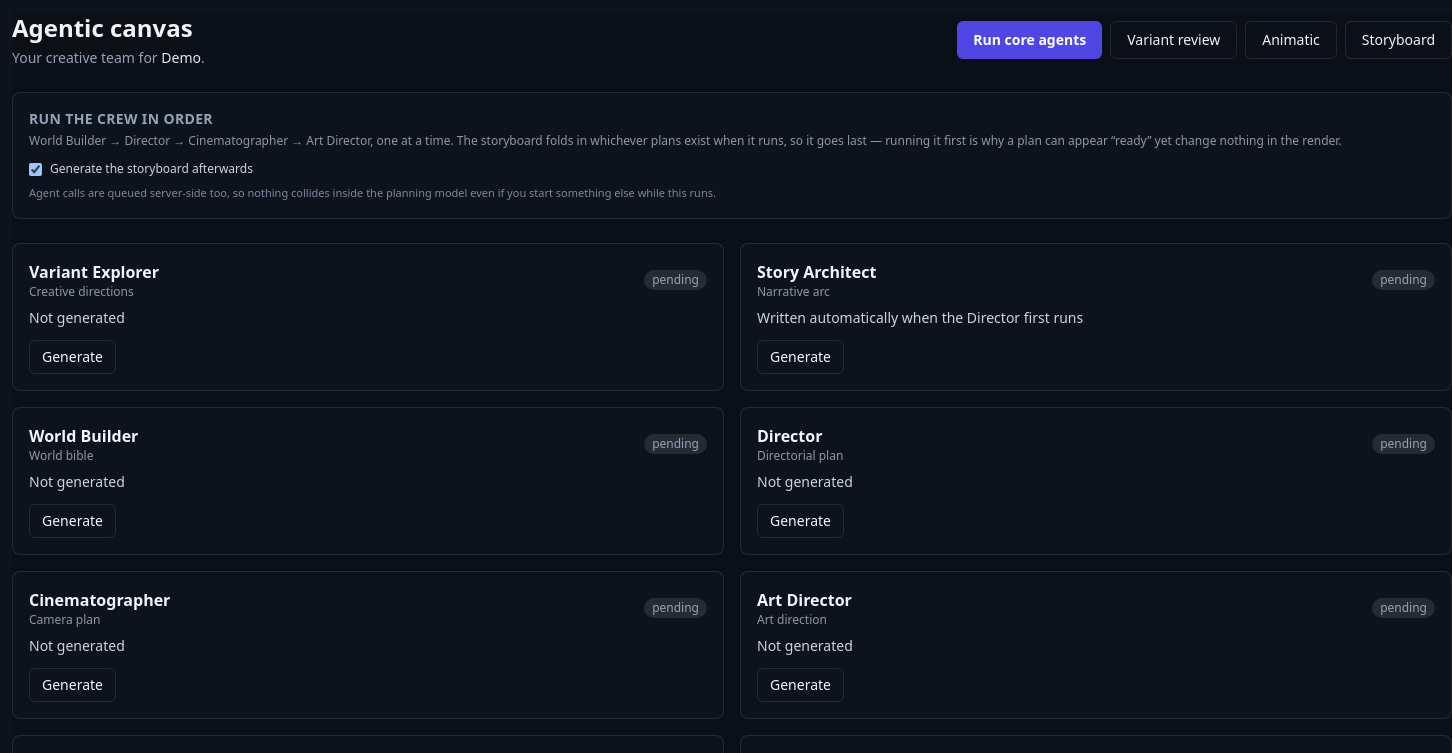
Scenario: AgenticCanvas queue reconciliation › names the failed agent and keeps completed predecessors
Click the button "Run core agents": x=1030, y=40 [957,21,1102,59]
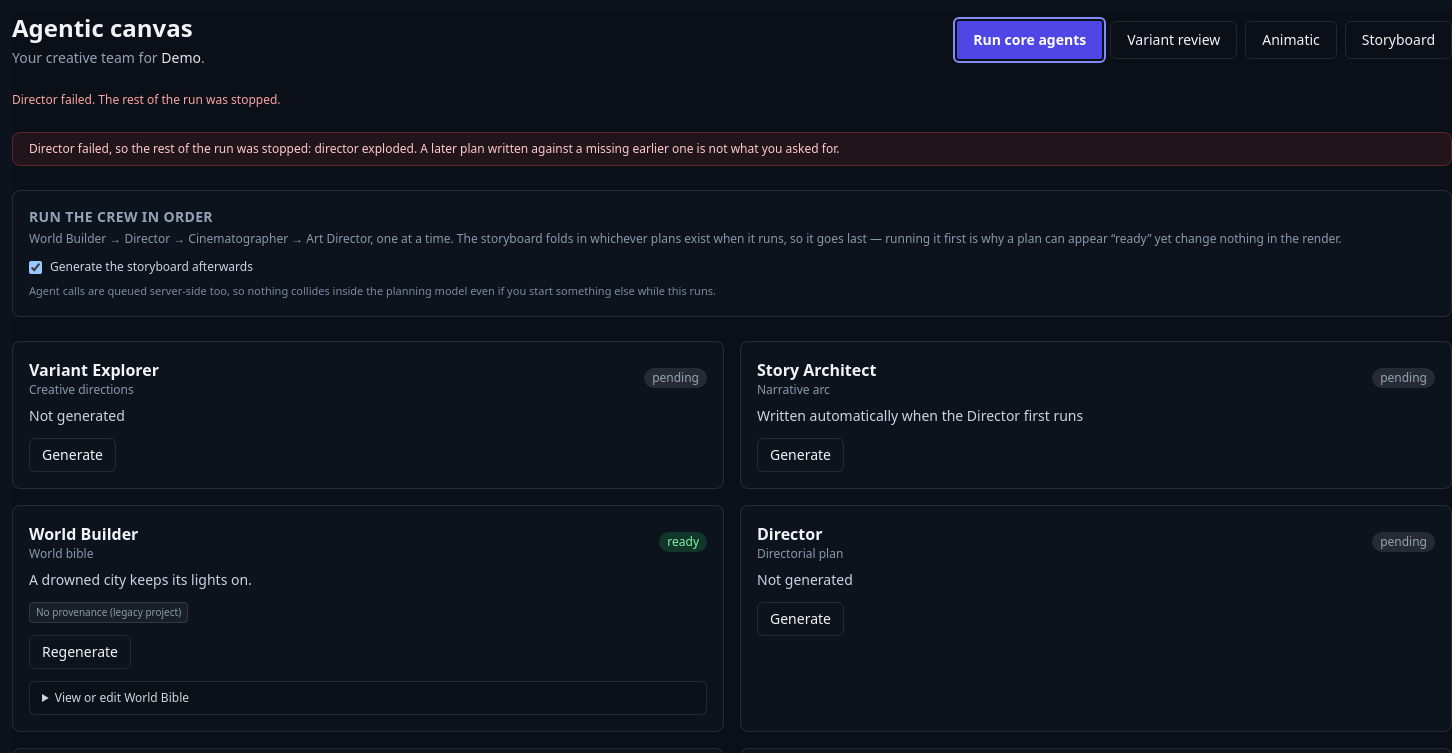
Expected: the text "ready" is shown once, [659,532,707,552]
Now the text with test id "canvas-queue-failed" shows "director exploded", box [314,140,414,157]
Now the text with test id "canvas-queue-failed" shows "Director failed", box [12,132,1451,166]
